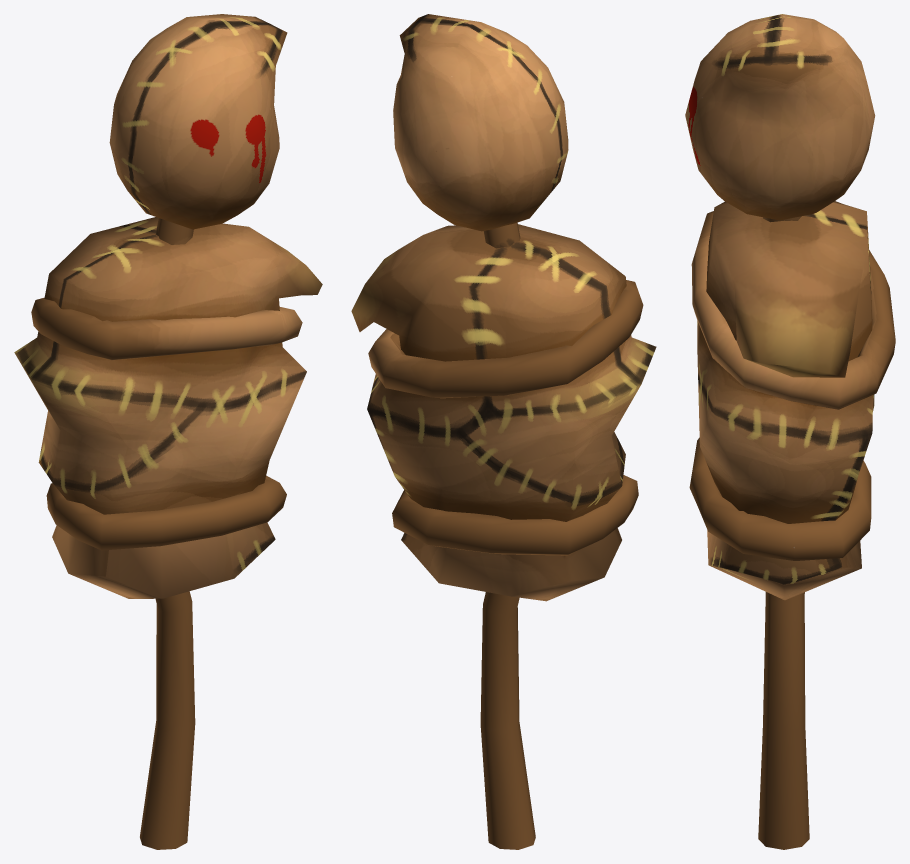
The model's file is Dummy.fbx.
3 views of the same model, side by side, from view 1: azimuth 30°, elevation 25°; view 2: azimuth 150°, elevation 25°; view 3: azimuth 270°, elevation 25° (orthographic). The views are drawn at different scales.
Parts seen in each view (by area): view 1: Cylinder; view 2: Cylinder; view 3: Cylinder.
Boxes of the visible parts, x1=… form: Cylinder: x1=14, y1=14, x2=322, y2=849; Cylinder: x1=351, y1=14, x2=656, y2=849; Cylinder: x1=685, y1=14, x2=895, y2=849.
Size of the model in its own units: 0.908 by 2.52 by 0.5695.
1 material, 1 textured.
